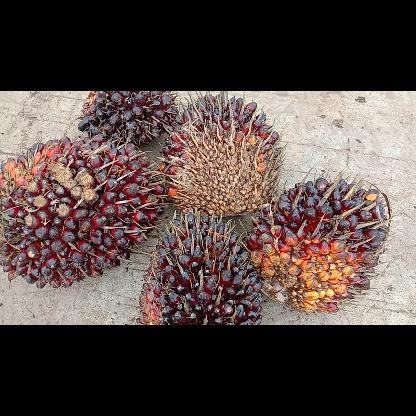TBS mentah: (0, 135, 167, 288), (242, 170, 392, 312), (156, 91, 286, 216), (136, 210, 262, 324), (78, 90, 178, 146)
